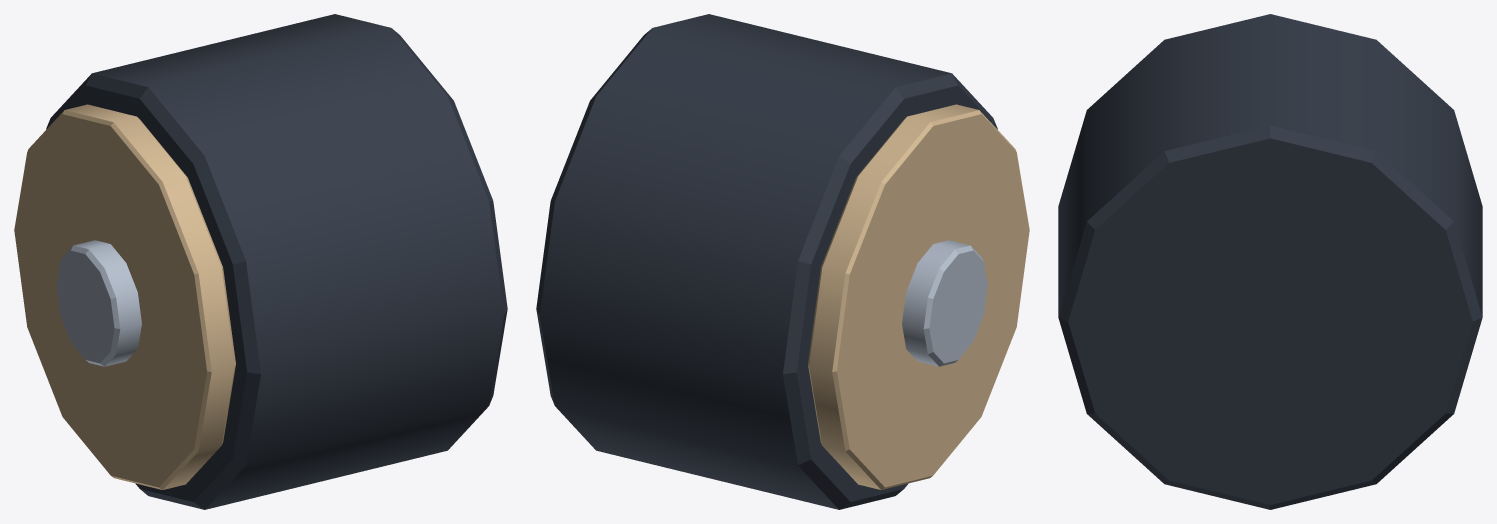
Rendered from Module_DrumMag_v001.fbx.
3 views of the same model, side by side, from view 1: azimuth 30°, elevation 25°; view 2: azimuth 150°, elevation 25°; view 3: azimuth 270°, elevation 25° (orthographic). The views are drawn at different scales.
Visible parts, largest first — view 1: Module_DrumMag__MAGAZINE_MESH; view 2: Module_DrumMag__MAGAZINE_MESH; view 3: Module_DrumMag__MAGAZINE_MESH.
Boxes of the visible parts, x1,y1,x2,y2 form: Module_DrumMag__MAGAZINE_MESH: [14, 14, 507, 509]; Module_DrumMag__MAGAZINE_MESH: [536, 14, 1029, 509]; Module_DrumMag__MAGAZINE_MESH: [1058, 14, 1482, 509].
Size of the model in its own units: 0.435 by 0.54 by 0.54.
